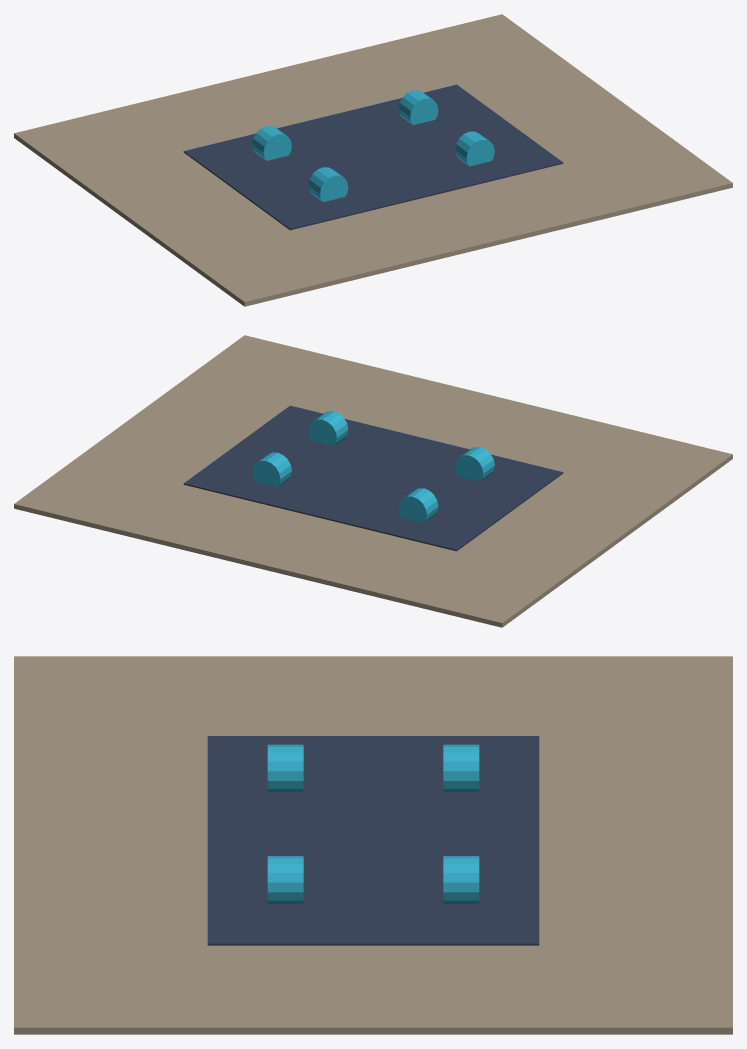
The model's file is stage_02_foundation.glb.
The picture shows the model from 3 angles, top to bottom: view 1: azimuth 30°, elevation 25°; view 2: azimuth 150°, elevation 25°; view 3: azimuth 270°, elevation 25°; orthographic projection. The views are drawn at different scales.
Parts seen in each view (by area): view 1: world; view 2: world; view 3: world.
Boxes of the visible parts, box(x1,y1,x2,y2) form: world: box(14, 14, 732, 306); world: box(14, 335, 732, 627); world: box(14, 656, 732, 1034).
Size of the model in its own units: 11 by 0.64 by 9.
